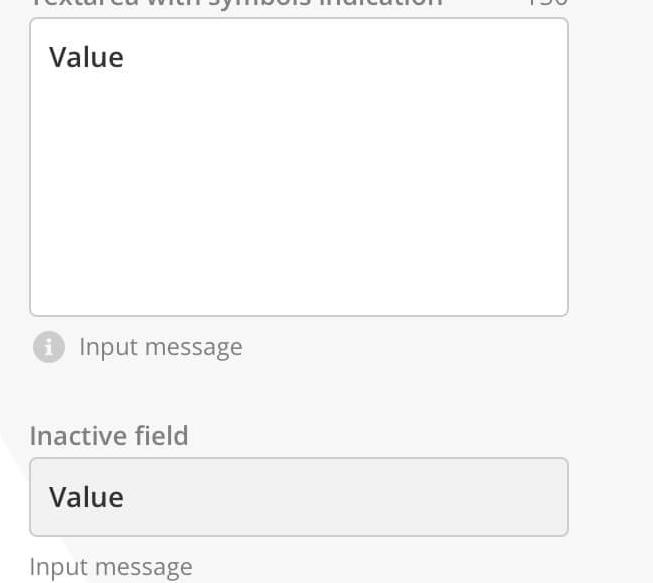field: (30, 15, 570, 319), (26, 453, 574, 540)
